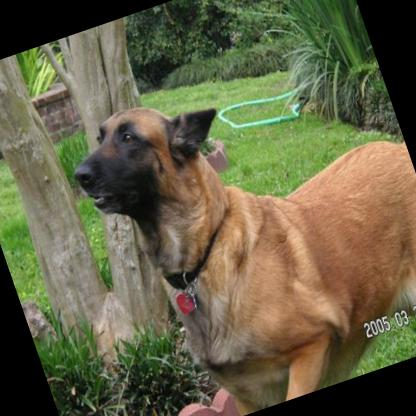malinois: (54, 20, 416, 416)
